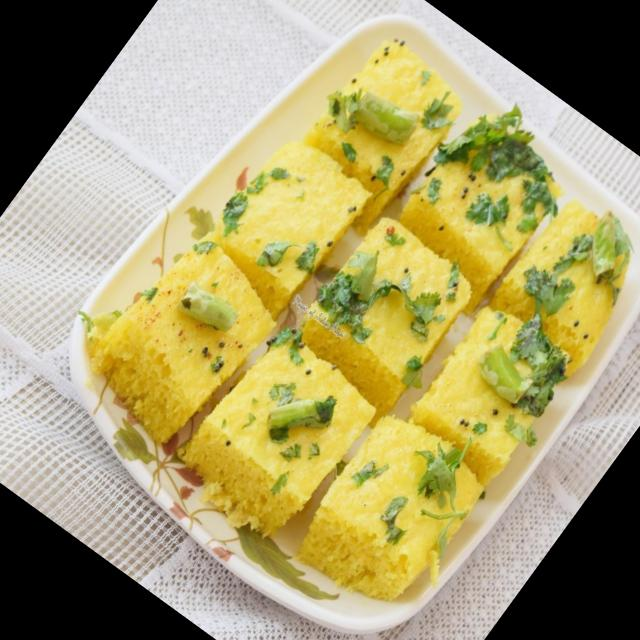dhokla: (62, 3, 640, 640)
